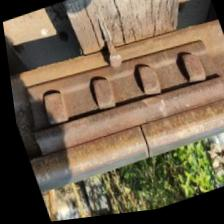person: (113, 113, 169, 172)
